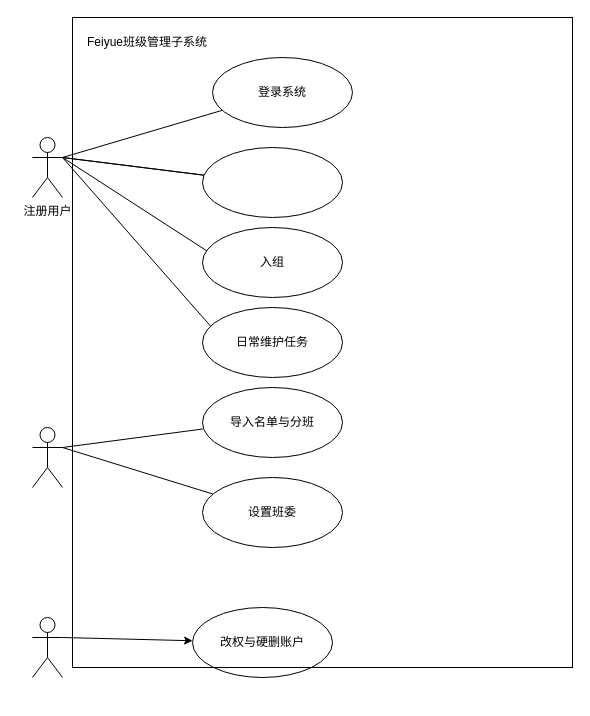
The diagram is 590 pixels wide and 716 high, and some of its shapes have lost their labels. The shapes that lost their labels are listed below. From the top down, each one's centre as x and y in pixels, then its label:
At (272,182): "点名".
At (47,457): "管理员".
At (47,647): "超级管理员".
